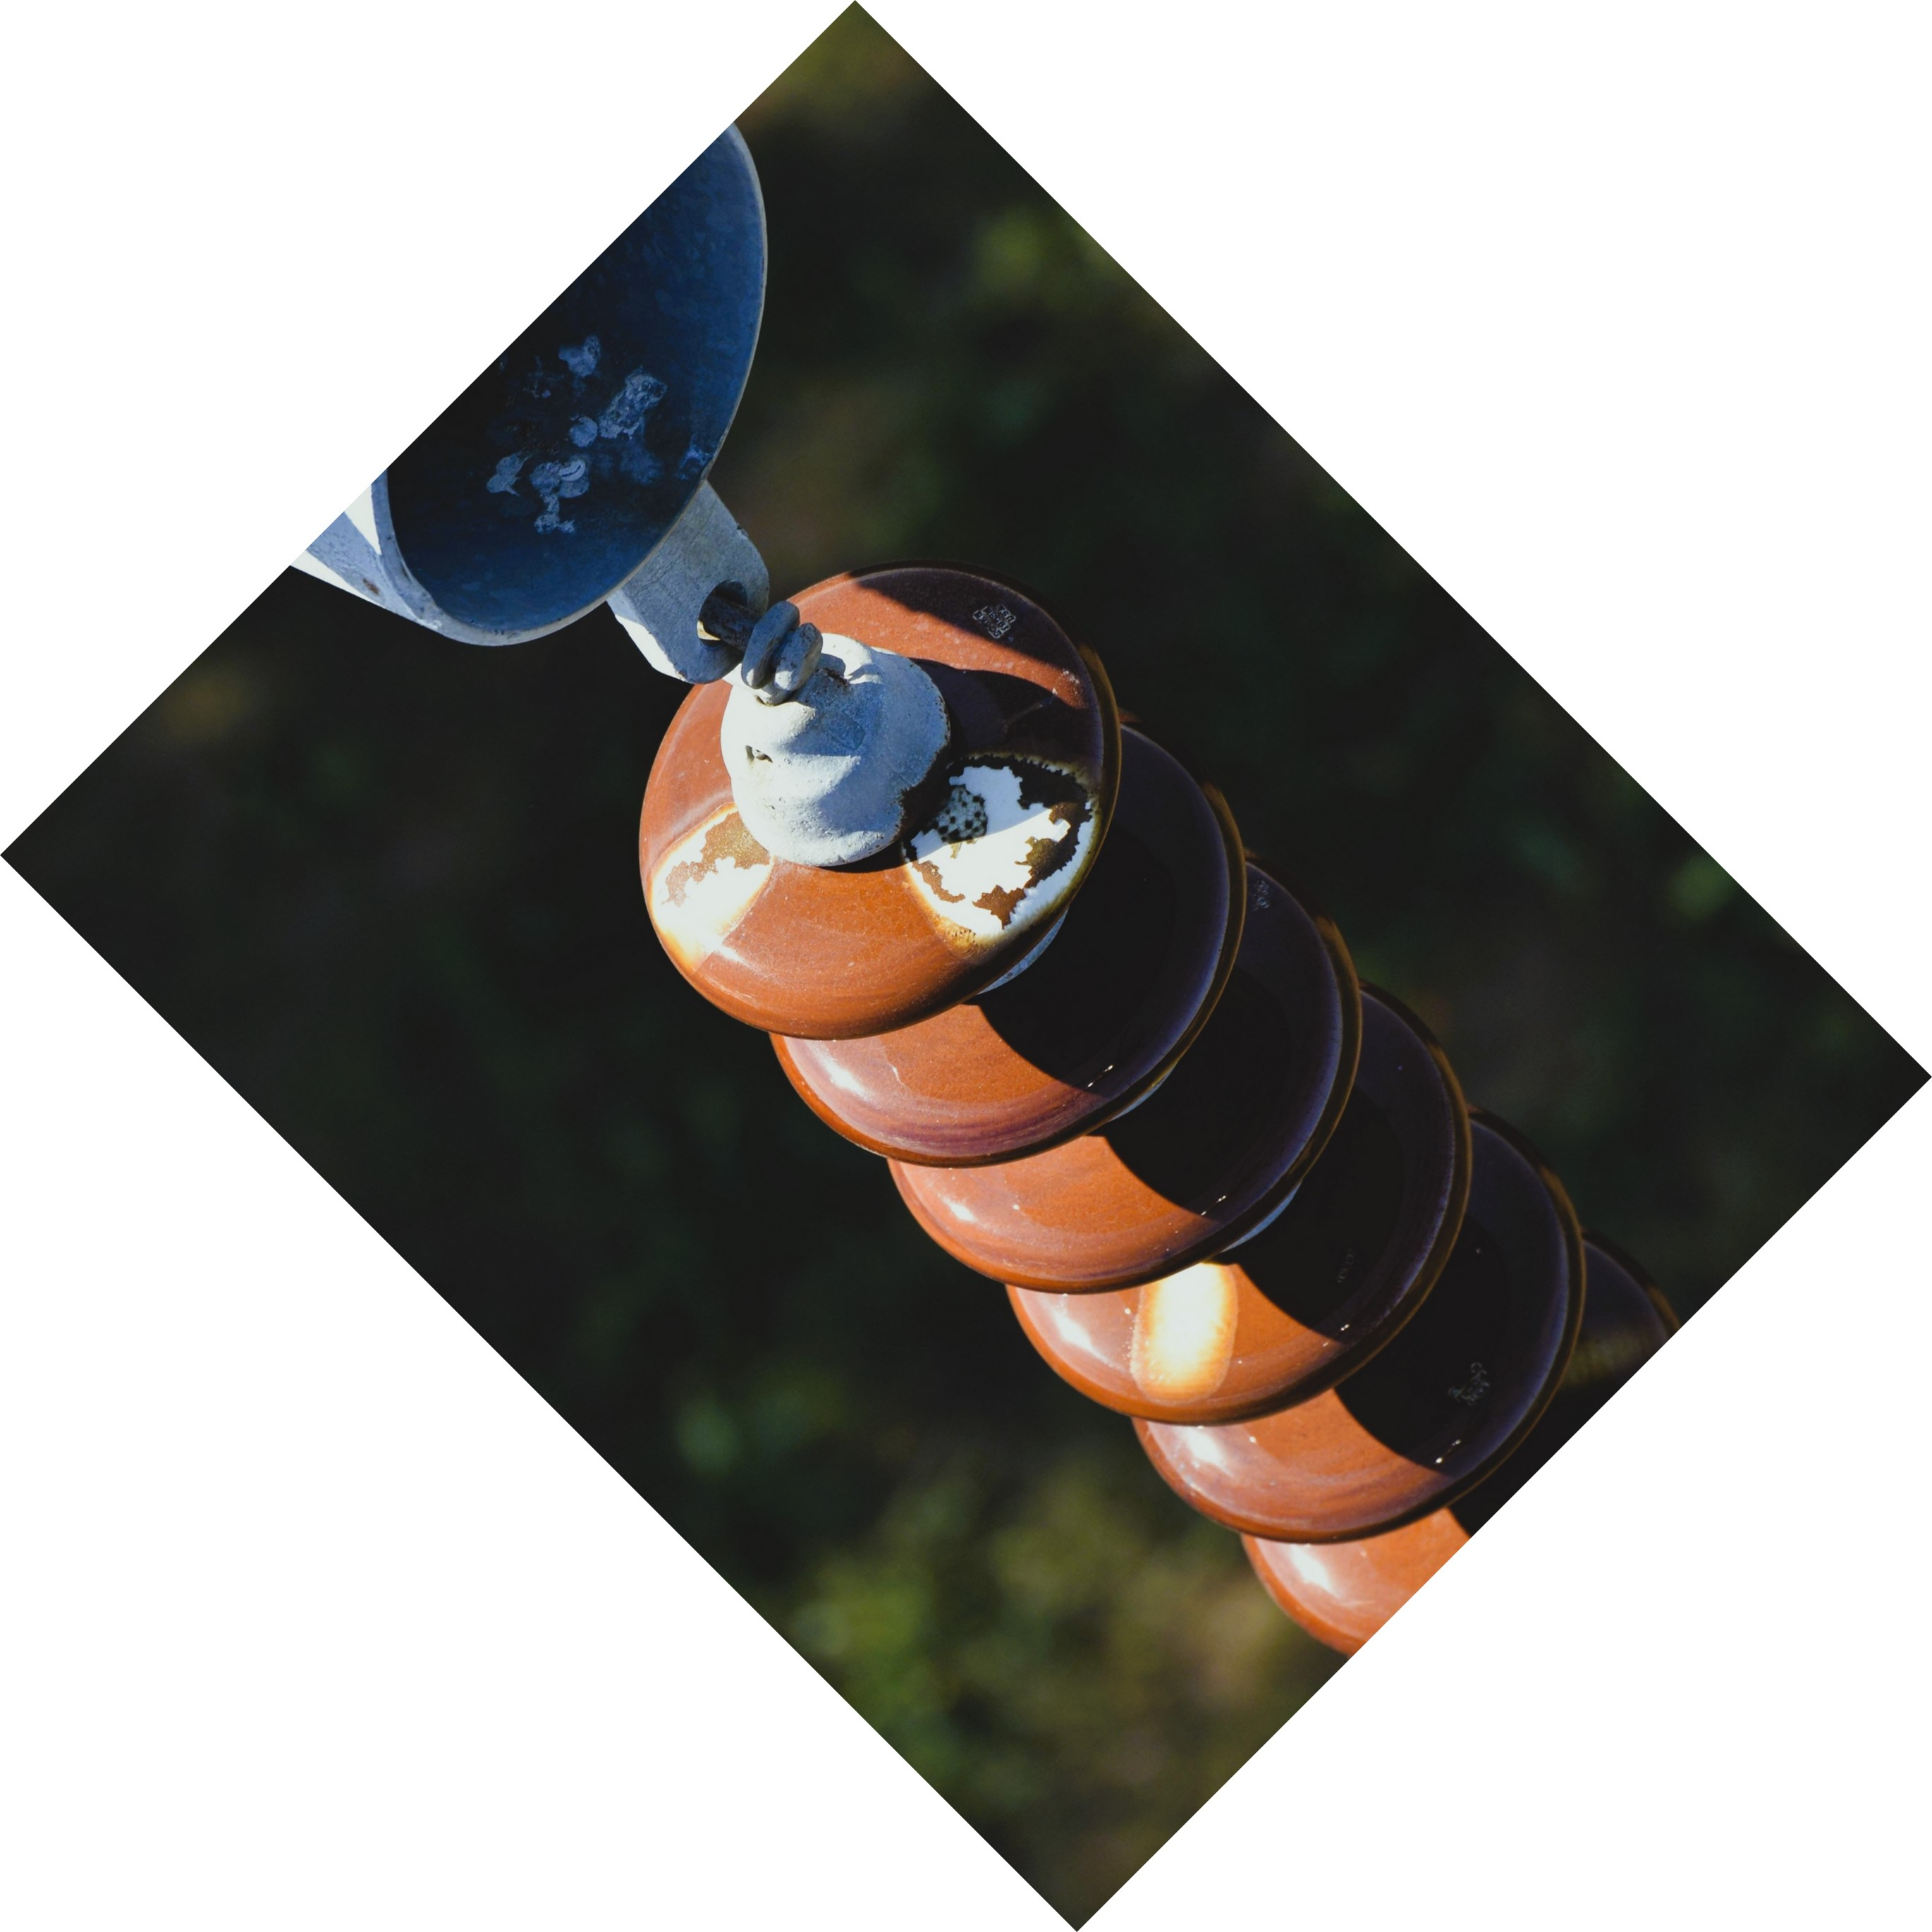Insulator flashover: (617, 552, 1138, 1042)
